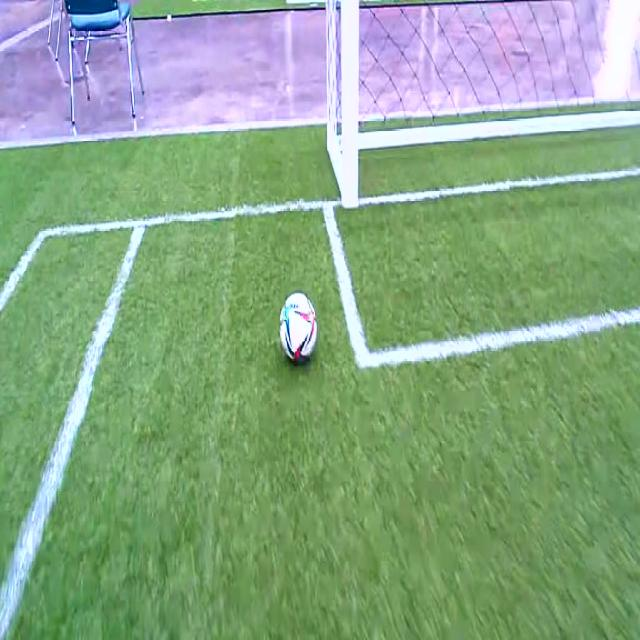ball: (279, 292, 317, 363)
